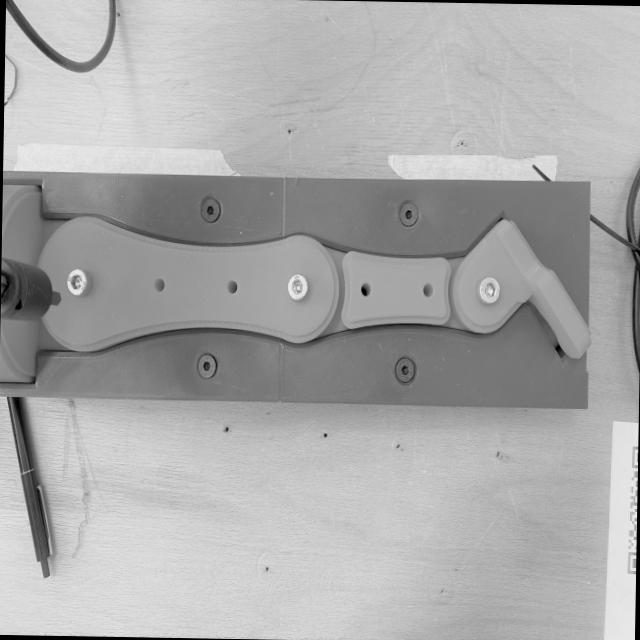Hex Socket Allen: (66, 268, 86, 296), (479, 276, 499, 303), (394, 357, 414, 382), (288, 274, 307, 300), (201, 198, 220, 222), (399, 202, 418, 226), (198, 354, 215, 378)
